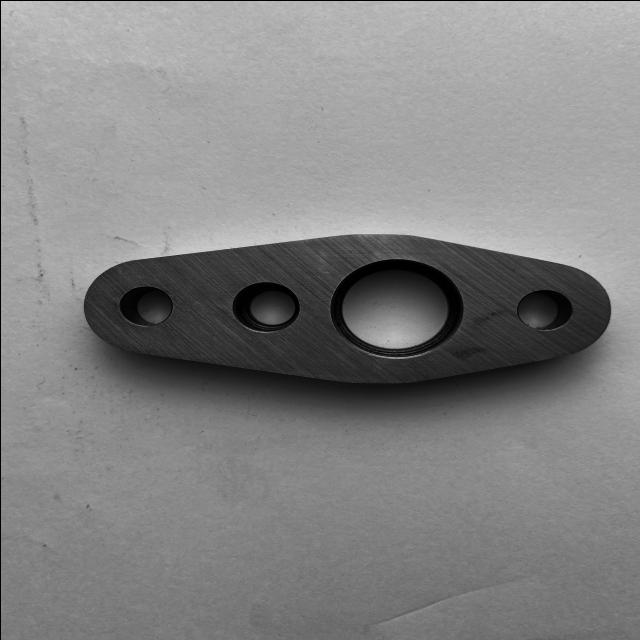lines: (468, 306, 514, 326), (448, 344, 486, 361)
